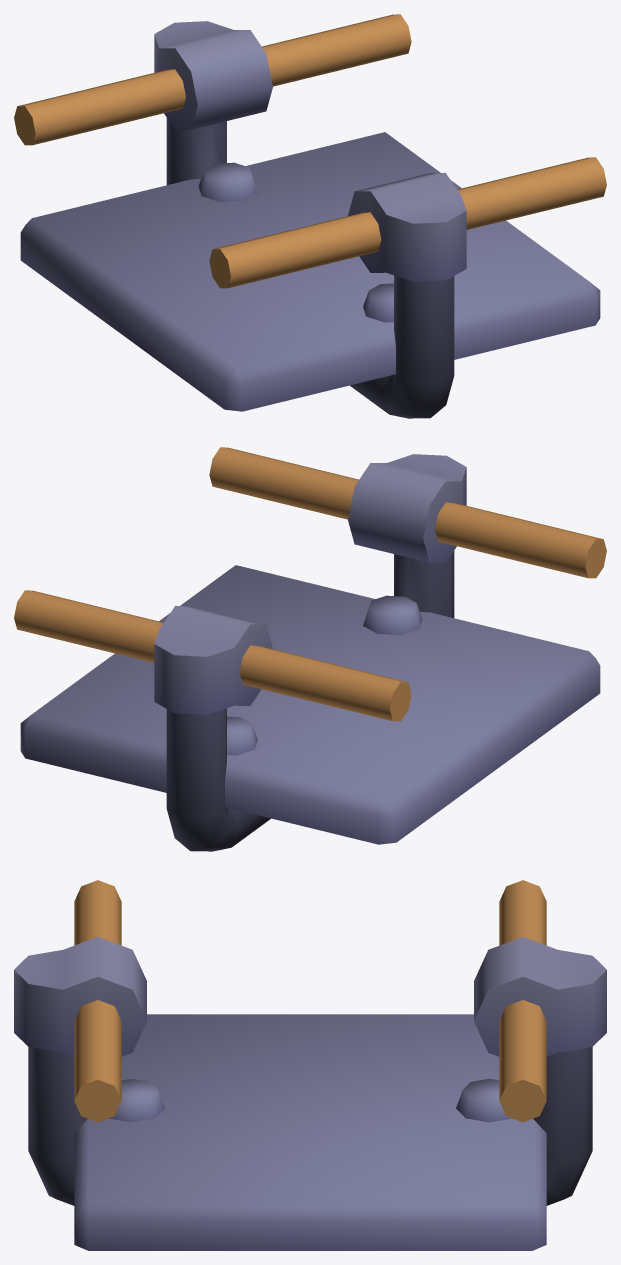
The model's file is catwalk-straight.glb.
3 renders of one model, top to bottom at view 1: azimuth 30°, elevation 25°; view 2: azimuth 150°, elevation 25°; view 3: azimuth 270°, elevation 25°, orthographic. The views are drawn at different scales.
Visible parts, largest first — view 1: catwalk-straight; view 2: catwalk-straight; view 3: catwalk-straight.
Part boxes in pixels (x1,y1,x2,y2): catwalk-straight: (14,14,606,418); catwalk-straight: (14,447,606,851); catwalk-straight: (14,880,606,1250).
Bounding box in the file's own units: 1 × 0.6014 × 1.26.
